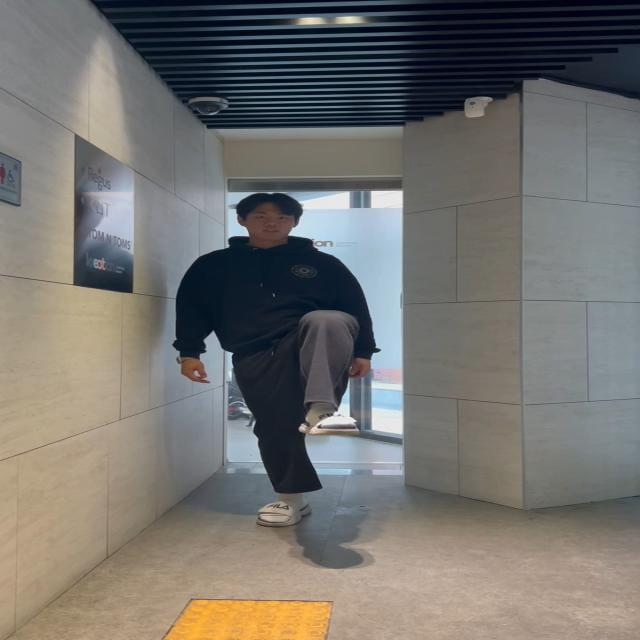knee: (294, 305, 401, 443)
